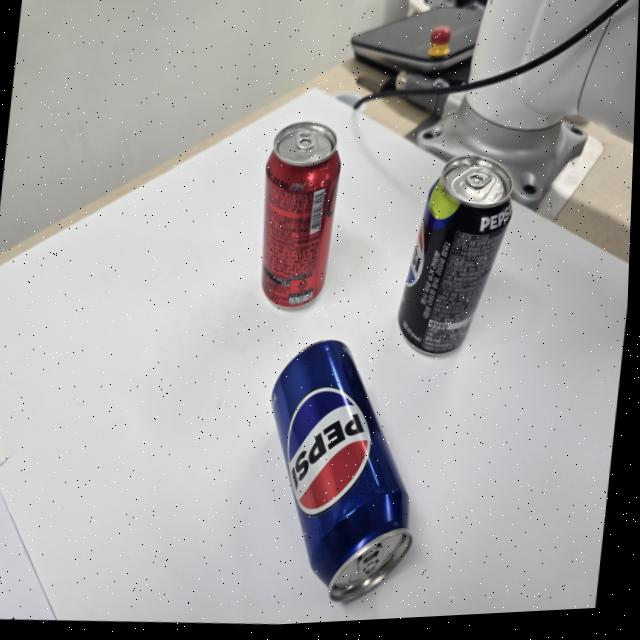can_coke_zero: (261, 121, 340, 308)
can_pepsi: (272, 340, 412, 601)
can_pepsi_zero: (398, 157, 511, 353)
